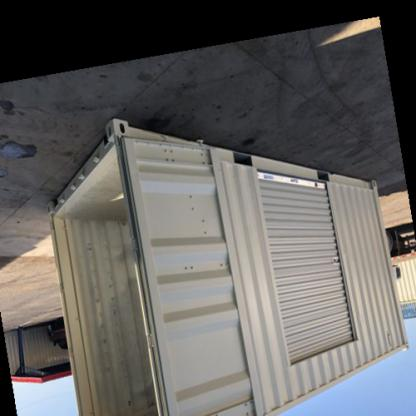Damage: (146, 147, 222, 277), (72, 236, 134, 374)
